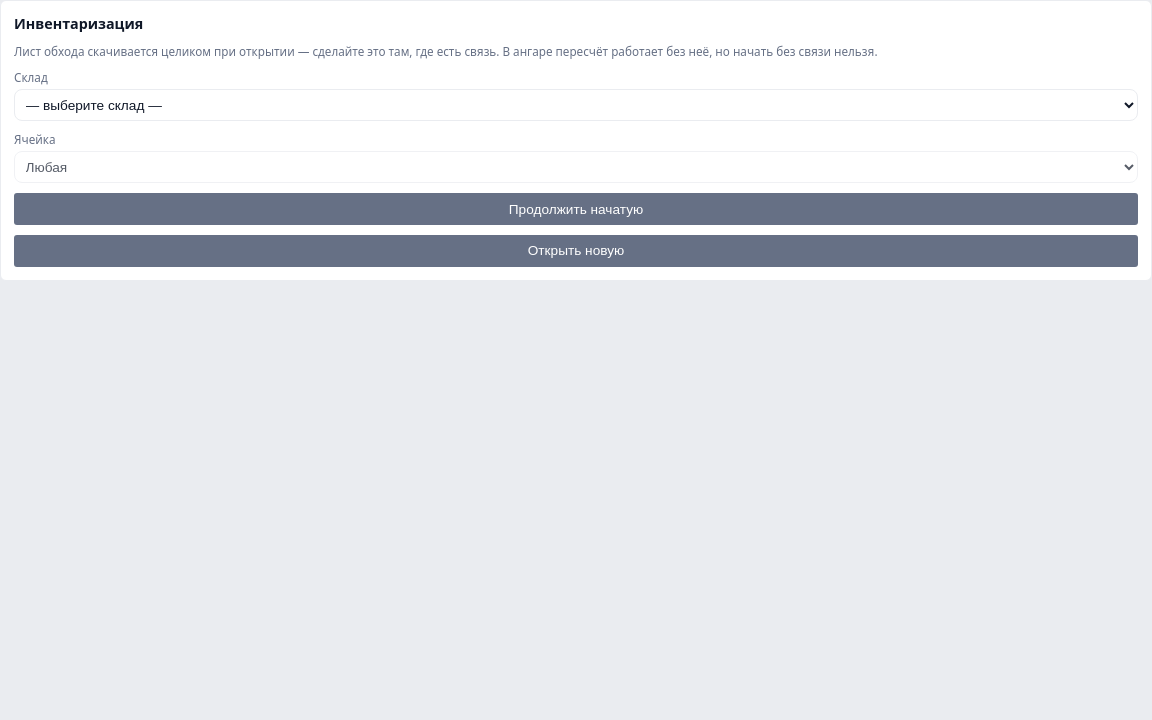
Scenario: лист обхода называет позицию номером › строка листа обхода несёт номер позиции
Select "Ткацкая" in the dropdown labelled "Склад" at [576, 105], box [14,89,1138,121]
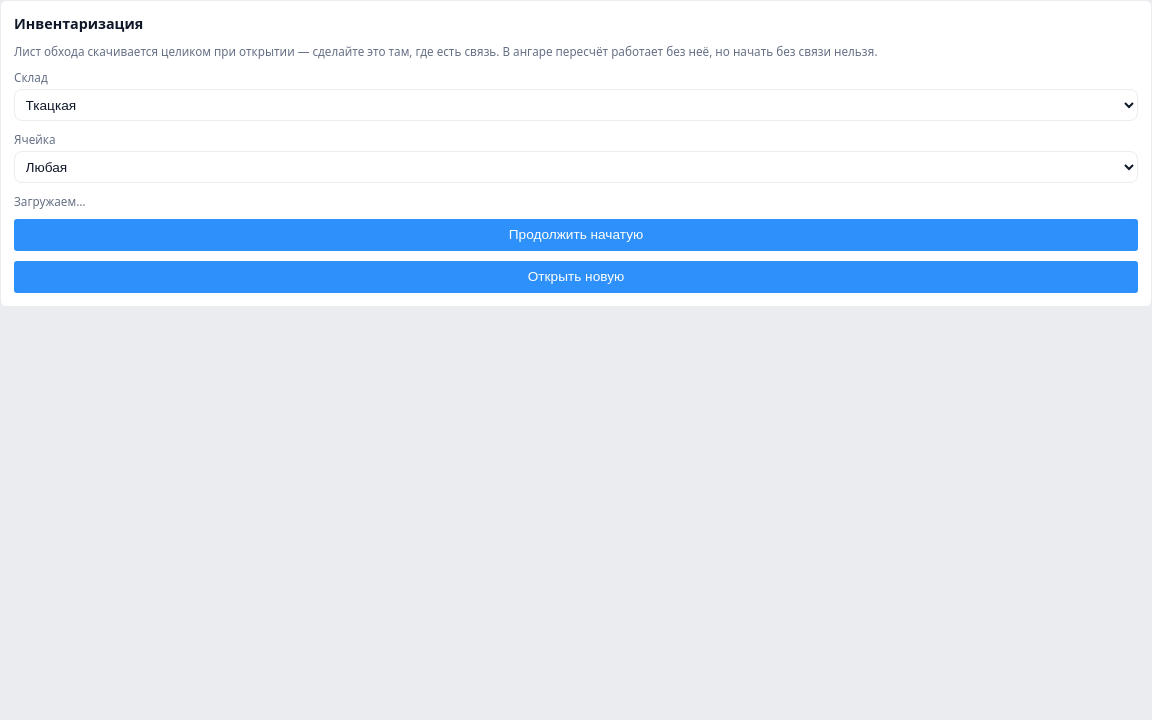
Click the button "Открыть новую" at [576, 277], box [14,261,1138,293]
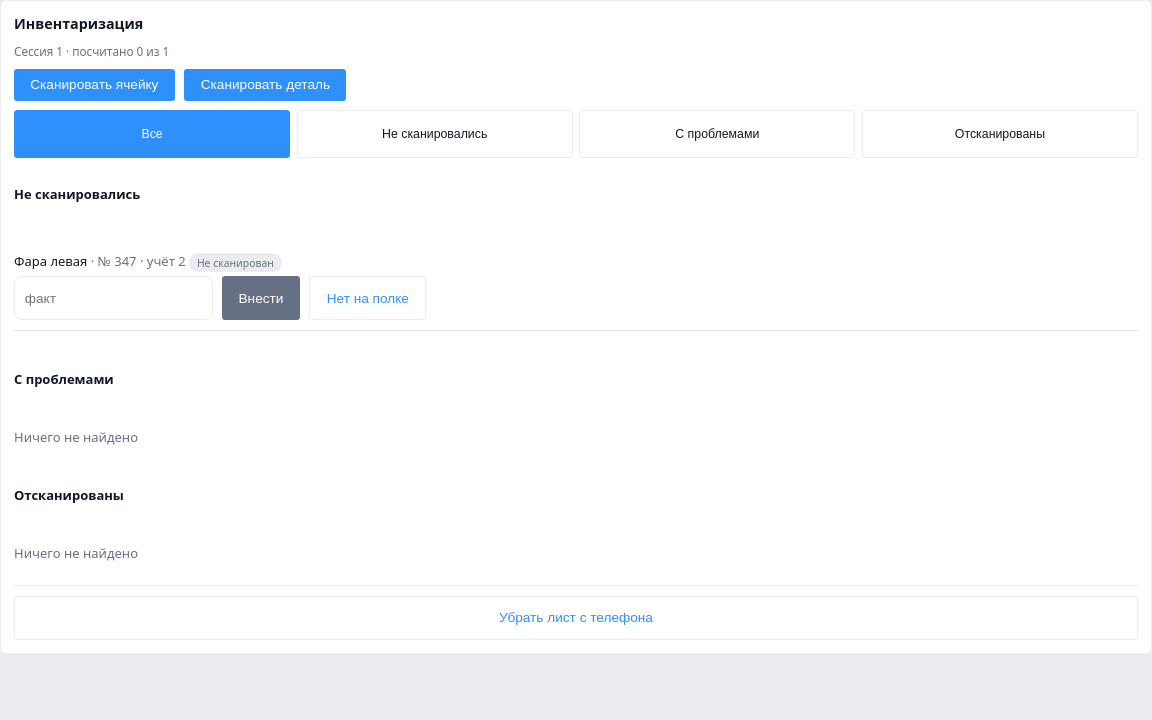
Check: the list item "Фара левая" shows "№ 347", box [14,242,1138,331]
Check: the list item "Фара левая" shows "учёт 2", box [14,242,1138,331]
